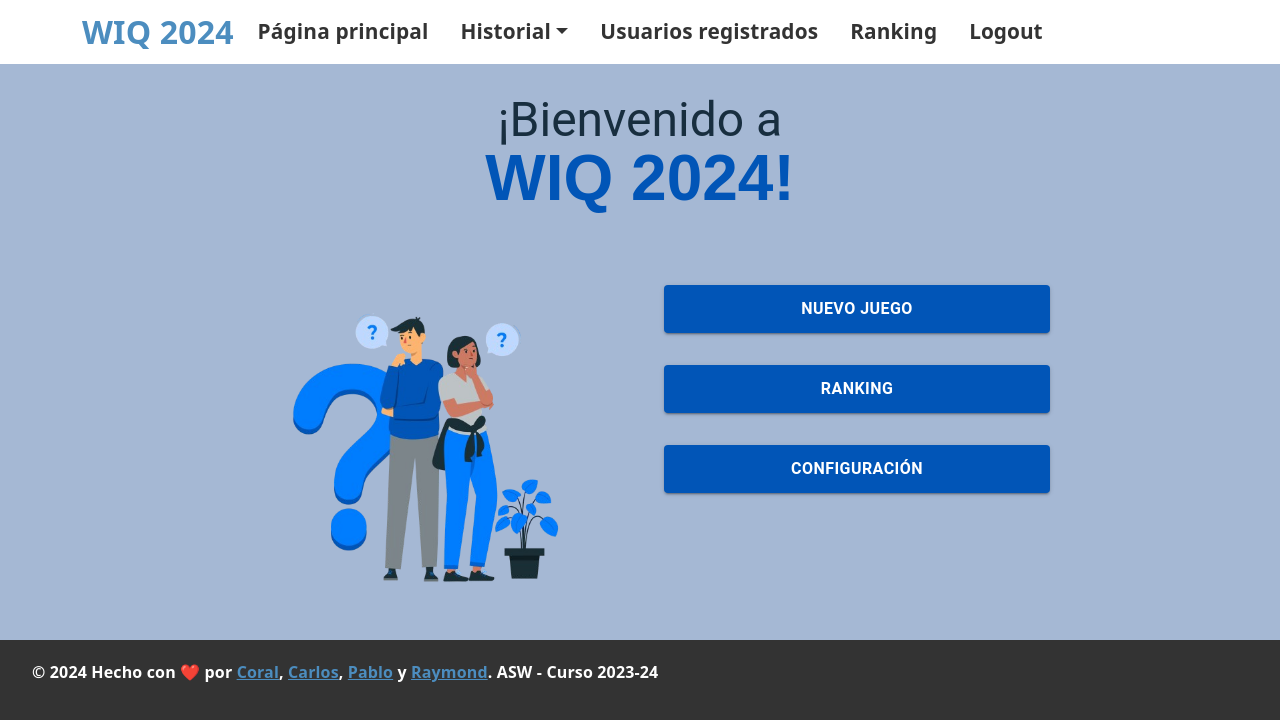
Test: MainPage component › muestra un mensaje de error si las condiciones no se cumplen
Click the button "Configuración" at (857,469), box [664,445,1050,493]
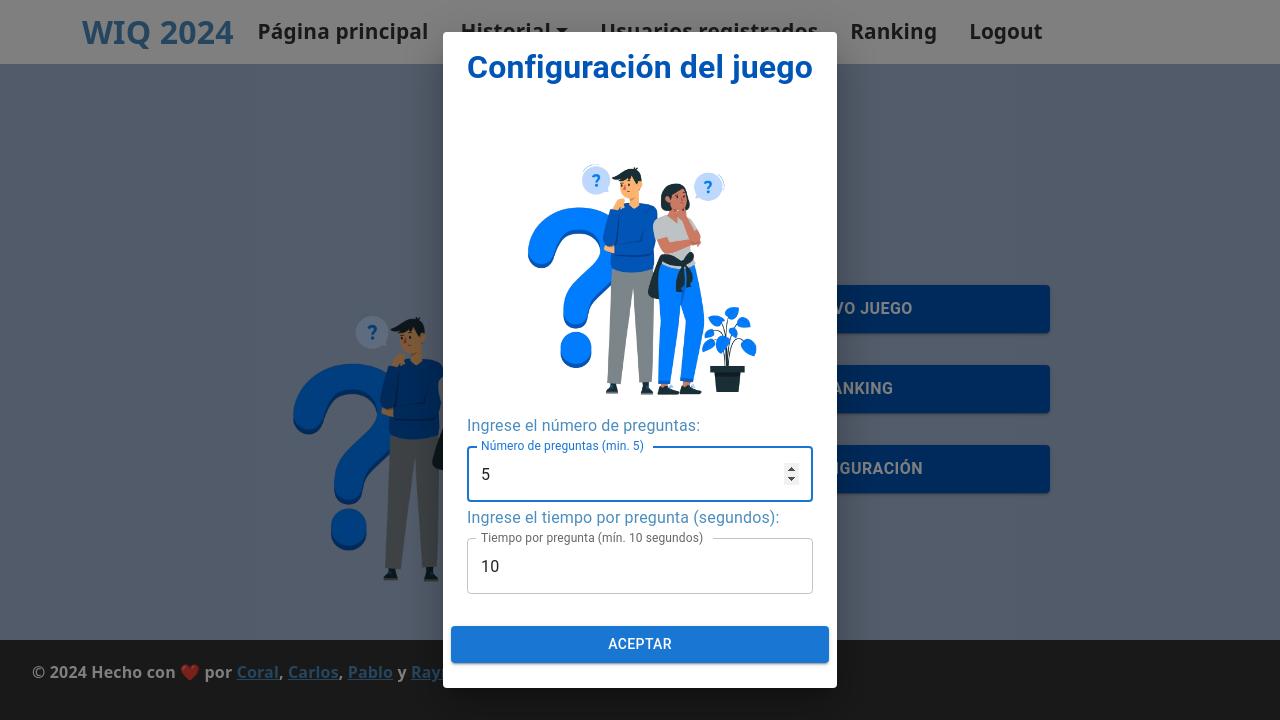
Simular el cambio de valor en los campos de entrada con valores inválidos
Replace the text in the number field labelled "Número de preguntas (min. 5)" with "3" at (640,474), box [467,446,813,502]
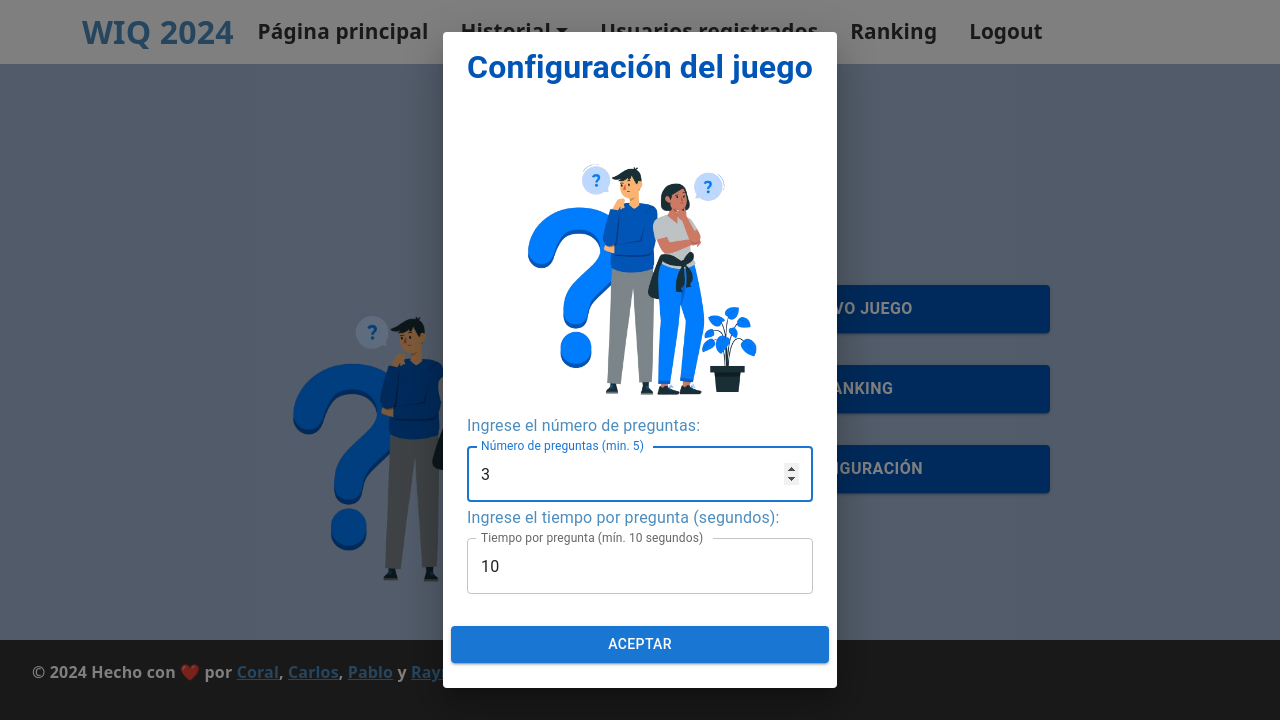
Replace the text in the number field labelled "Tiempo por pregunta (mín. 10 segundos)" with "5" at (640,566), box [467,538,813,594]
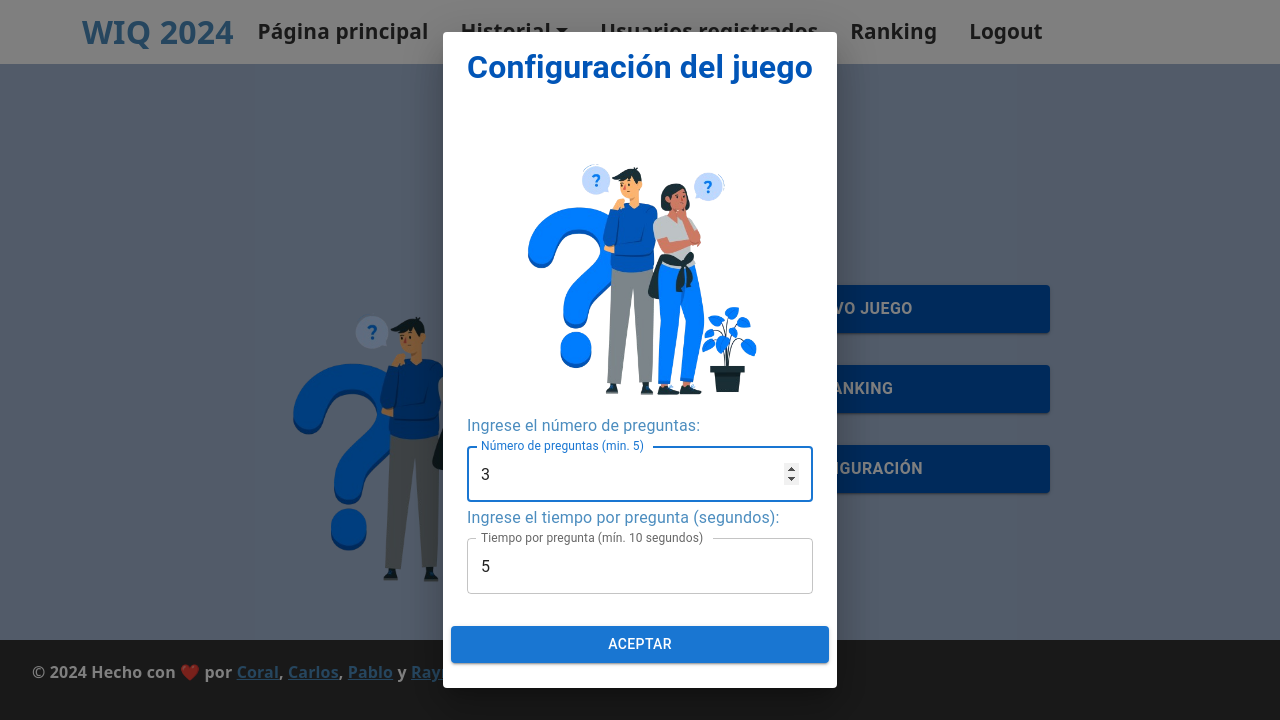
Simular hacer clic en el botón de aceptar
Click the button "Aceptar" at (640,645), box [451,626,829,663]
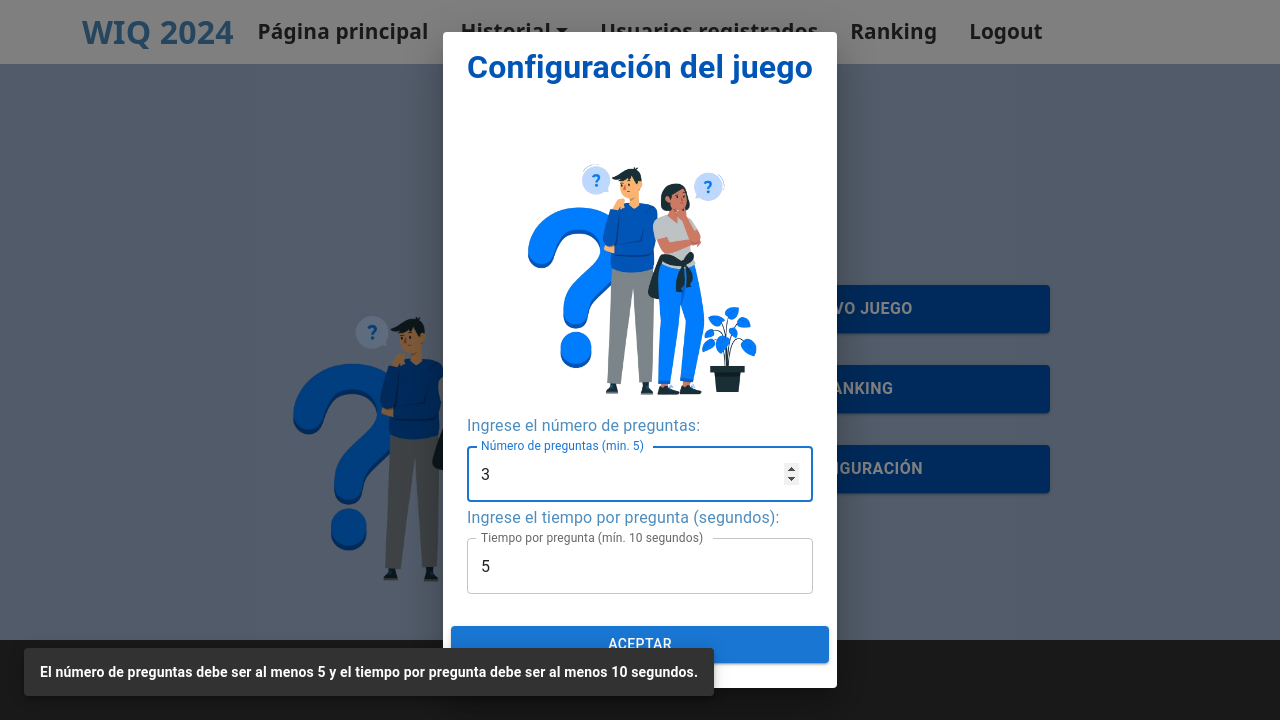
expect the heading "Configuración del juego" is shown: met, box [467,48,813,102]
expect the text "El número de preguntas debe ser al menos 5 y el tiempo por pregunta debe ser al menos 10 segundos." is shown: met, box [40,664,698,680]
